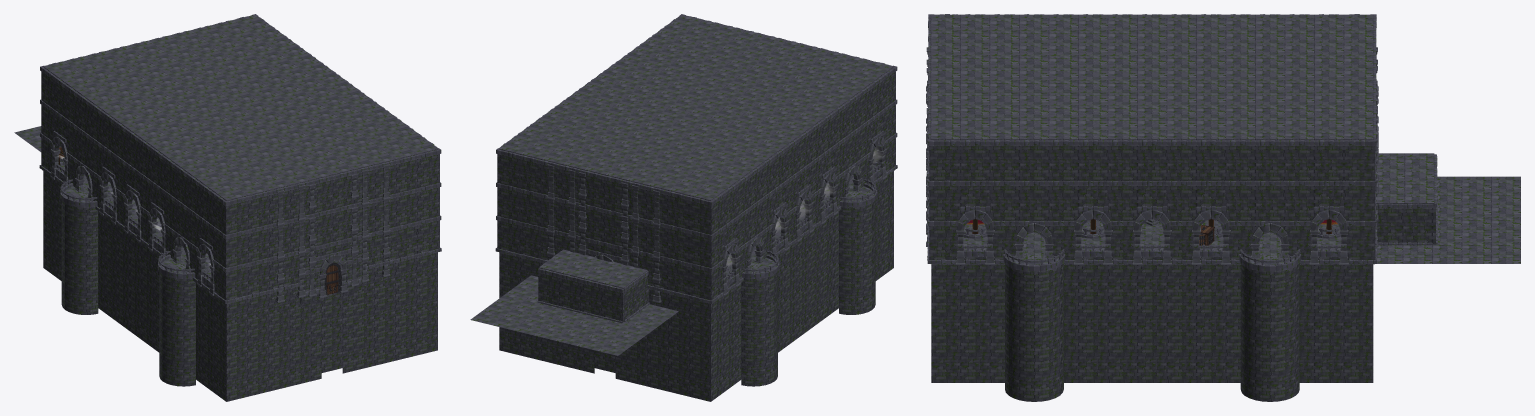
Rendered from fantastic_demo_level3_merged-transformed.glb.
3 views of the same model, side by side, from view 1: azimuth 30°, elevation 25°; view 2: azimuth 150°, elevation 25°; view 3: azimuth 270°, elevation 25° (orthographic). The views are drawn at different scales.
Parts seen in each view (by area): view 1: P_MOD_Wall_01_E_straight_large_ArcCover, P_MOD_Floor_01_E_straight_med, P_MOD_Railing_01_convex (1), P_PROP_chain_small_dungeon_01, P_MOD_Floor_01_O_convex_med.002; view 2: P_MOD_Wall_01_E_straight_large_ArcCover, P_MOD_Floor_01_E_straight_med, P_MOD_Railing_01_convex (1), Plane_godray_dungeon.006, P_MOD_Floor_01_O_convex_med.002; view 3: P_MOD_Wall_01_E_straight_large_ArcCover, P_MOD_Floor_01_E_straight_med, P_MOD_Railing_01_convex (1), P_MOD_Floor_01_O_convex_med.002.
Boxes of the visible parts, x1=… form: P_MOD_Wall_01_E_straight_large_ArcCover: x1=41, y1=71, x2=439, y2=401; P_MOD_Floor_01_E_straight_med: x1=14, y1=15, x2=437, y2=299; P_MOD_Railing_01_convex (1): x1=39, y1=14, x2=441, y2=303; P_PROP_chain_small_dungeon_01: x1=206, y1=253, x2=341, y2=294; P_MOD_Floor_01_O_convex_med.002: x1=64, y1=186, x2=188, y2=272; P_MOD_Wall_01_E_straight_large_ArcCover: x1=497, y1=72, x2=895, y2=401; P_MOD_Floor_01_E_straight_med: x1=470, y1=15, x2=893, y2=355; P_MOD_Railing_01_convex (1): x1=495, y1=14, x2=897, y2=323; Plane_godray_dungeon.006: x1=726, y1=147, x2=882, y2=266; P_MOD_Floor_01_O_convex_med.002: x1=748, y1=186, x2=872, y2=272; P_MOD_Wall_01_E_straight_large_ArcCover: x1=929, y1=145, x2=1435, y2=401; P_MOD_Floor_01_E_straight_med: x1=930, y1=14, x2=1520, y2=263; P_MOD_Railing_01_convex (1): x1=926, y1=14, x2=1437, y2=271; P_MOD_Floor_01_O_convex_med.002: x1=963, y1=220, x2=1340, y2=264.
Bounding box in the file's own units: 48.48 × 37.45 × 80.71.
Materials: 20 (20 with a texture image).
